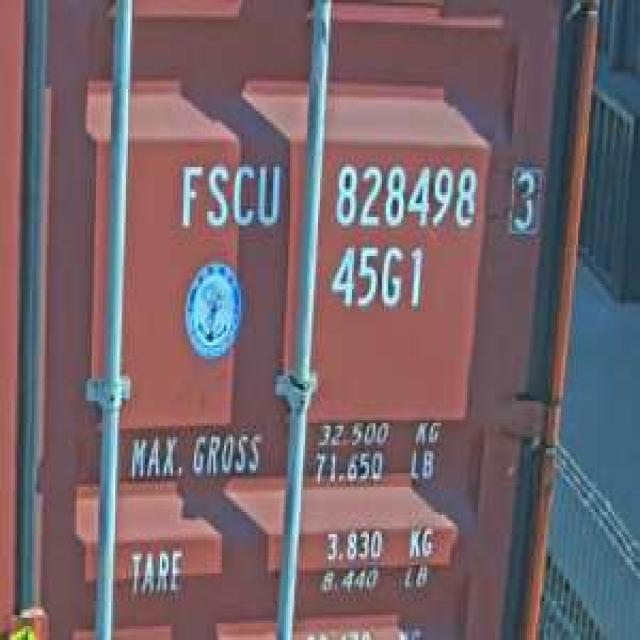dv: (504, 156, 546, 236)
owner: (170, 153, 284, 237)
serial: (329, 156, 480, 236)
size: (326, 240, 427, 314)
